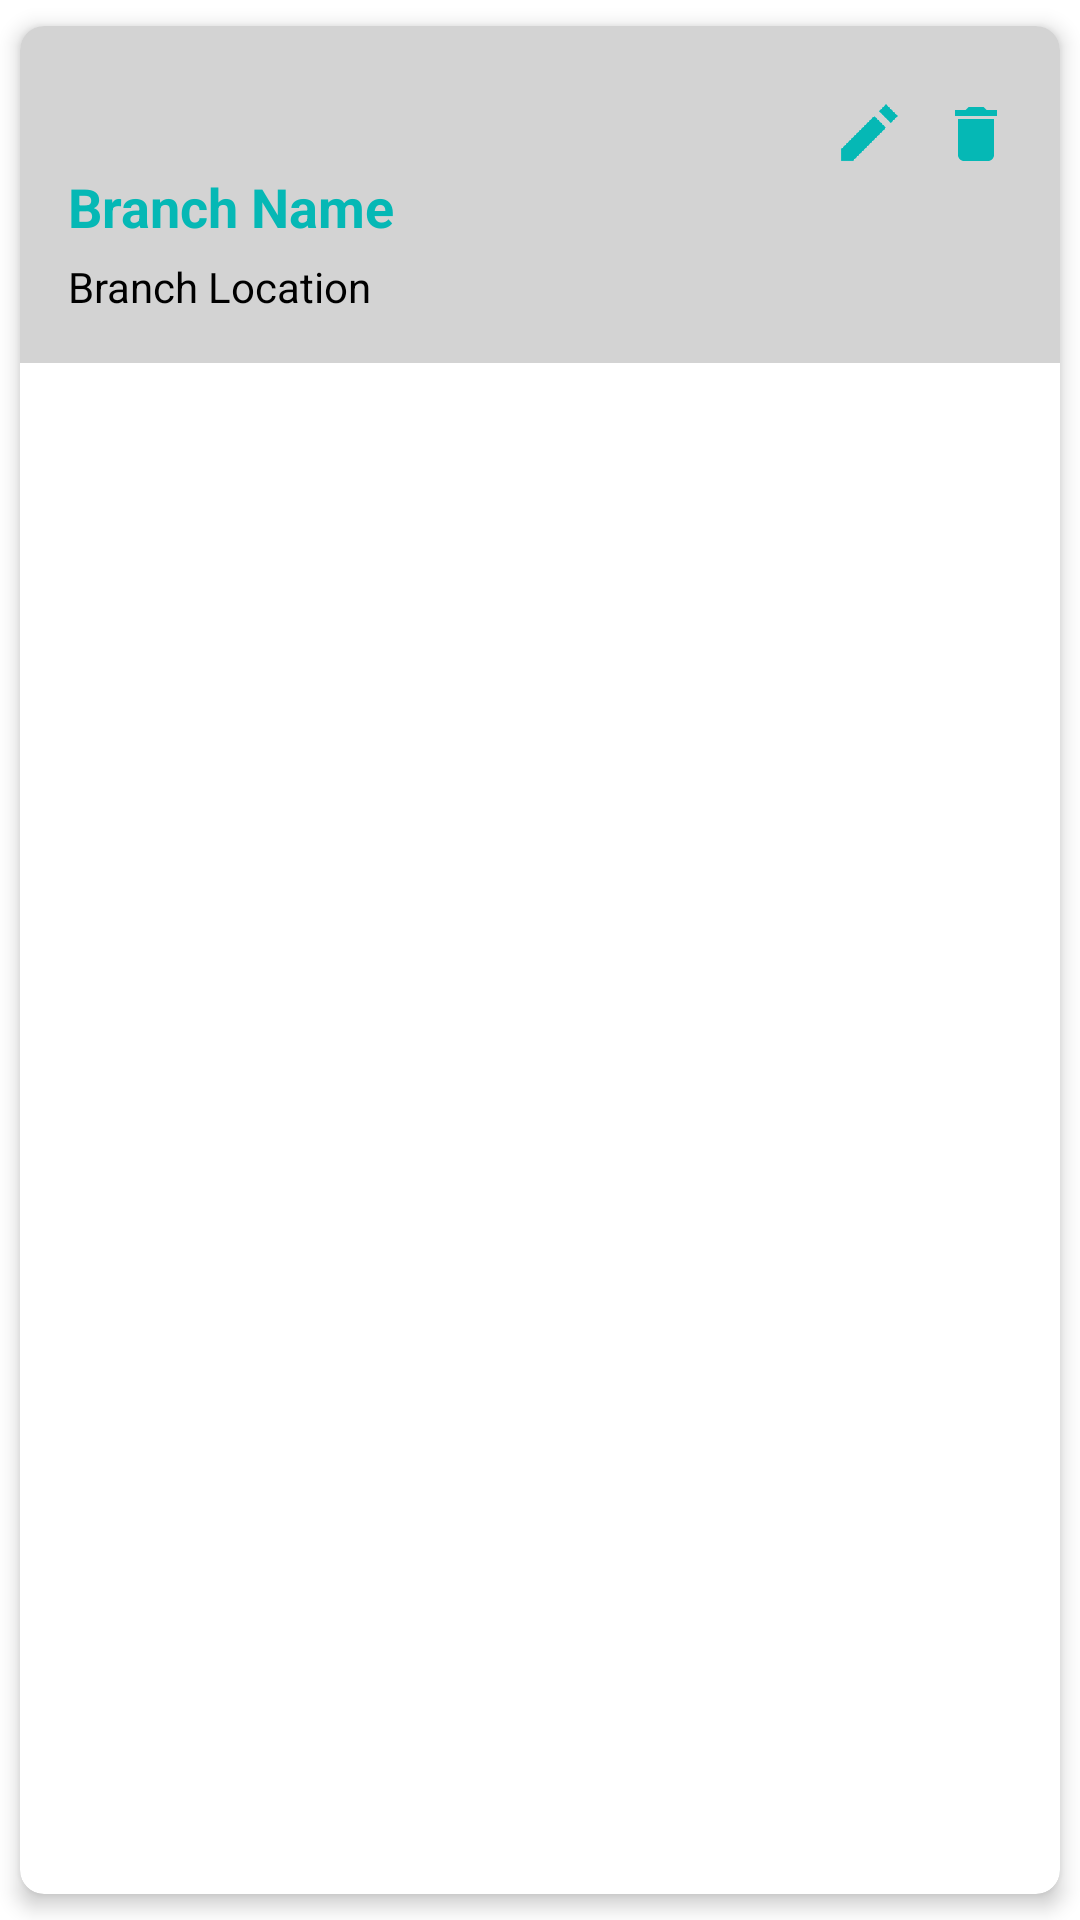

Icons on this 1080*1920 Android screen, each with the point to tap as point (x, y):
delete: point (976, 134)
edit: point (869, 132)
